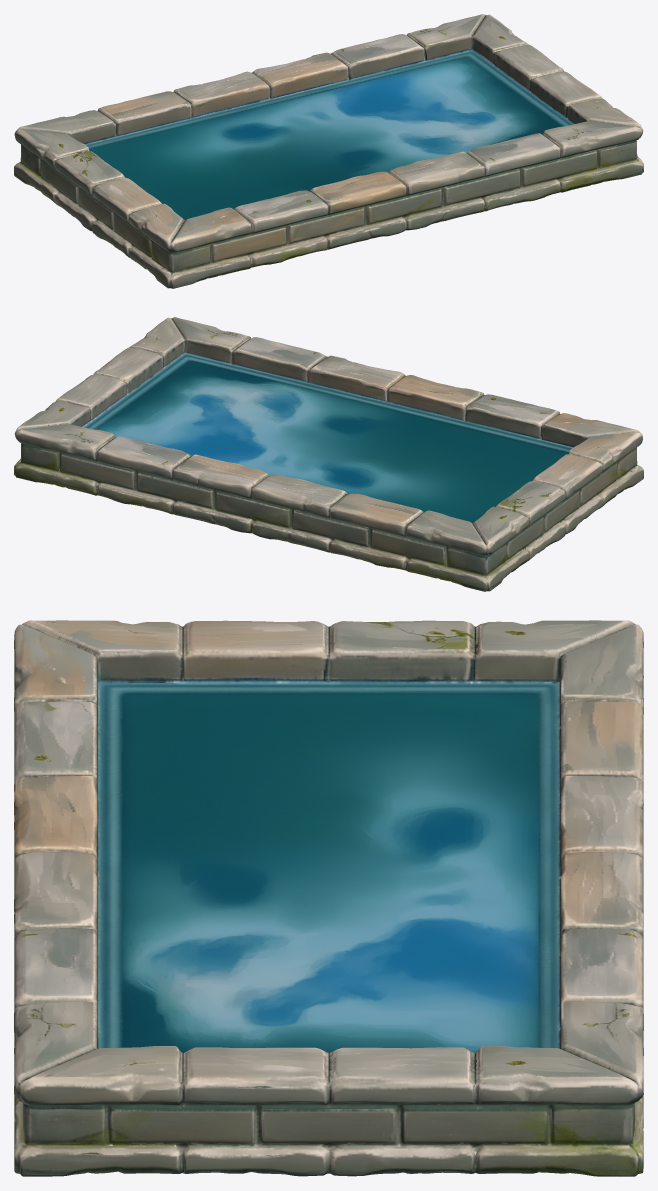
File: Ancient_Stone_Pool.fbx
3 views of the same model, one above another, from view 1: azimuth 30°, elevation 25°; view 2: azimuth 150°, elevation 25°; view 3: azimuth 270°, elevation 25° (orthographic). The views are drawn at different scales.
Parts seen in each view (by area): view 1: Ancient_Stone_Pool_LOD0; view 2: Ancient_Stone_Pool_LOD0; view 3: Ancient_Stone_Pool_LOD0.
Part boxes in pixels (x1,y1,x2,y2): Ancient_Stone_Pool_LOD0: (14, 14, 643, 288); Ancient_Stone_Pool_LOD0: (14, 317, 643, 591); Ancient_Stone_Pool_LOD0: (14, 620, 643, 1176).
Size of what is drawn, in the model's own units: 1.9 by 0.1852 by 1.09.
1 material, 1 textured.
